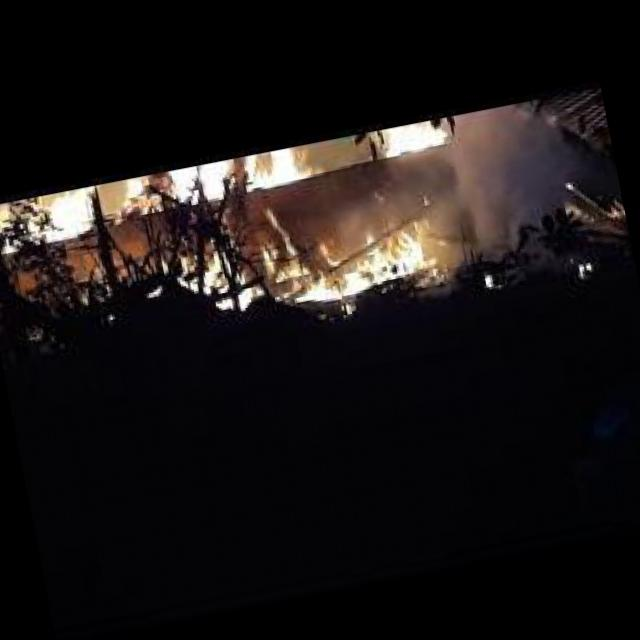fire: (254, 182, 442, 310), (132, 147, 311, 209), (174, 234, 258, 319), (380, 120, 450, 154)
